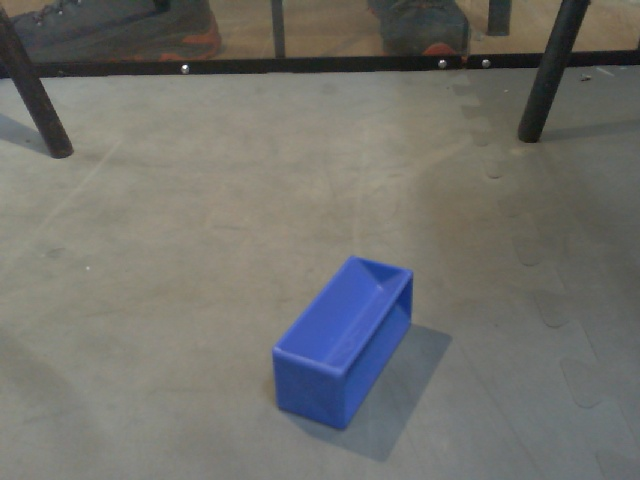BlueSample: (270, 252, 418, 431)
